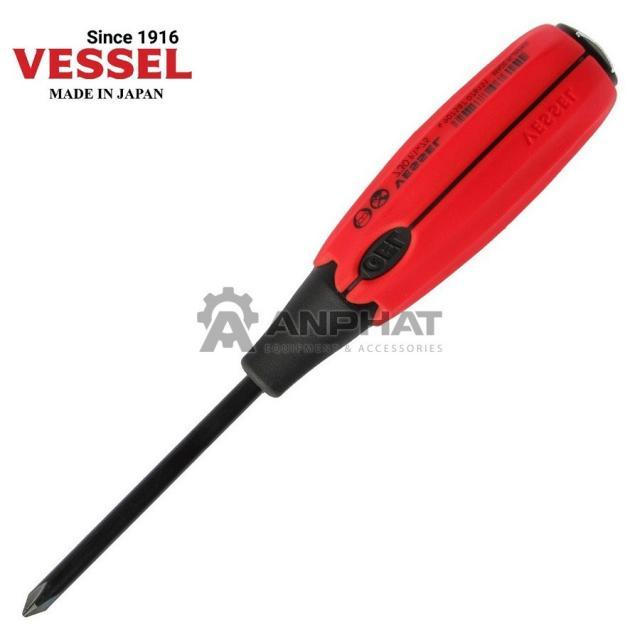screwdriver: (18, 20, 616, 626)
